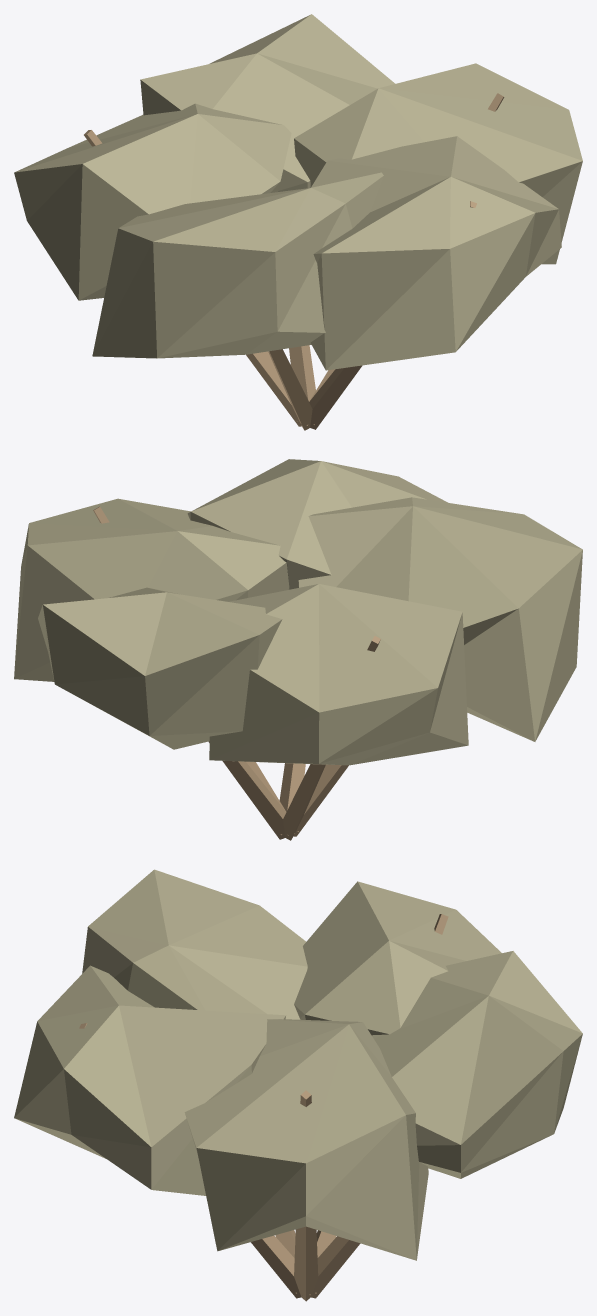
The model's file is desert-scrub.glb.
3 views of the same model, one above another, from view 1: azimuth 30°, elevation 25°; view 2: azimuth 150°, elevation 25°; view 3: azimuth 270°, elevation 25° (orthographic). The views are drawn at different scales.
Size of the model in its own units: 1.7 by 0.9755 by 1.57.
